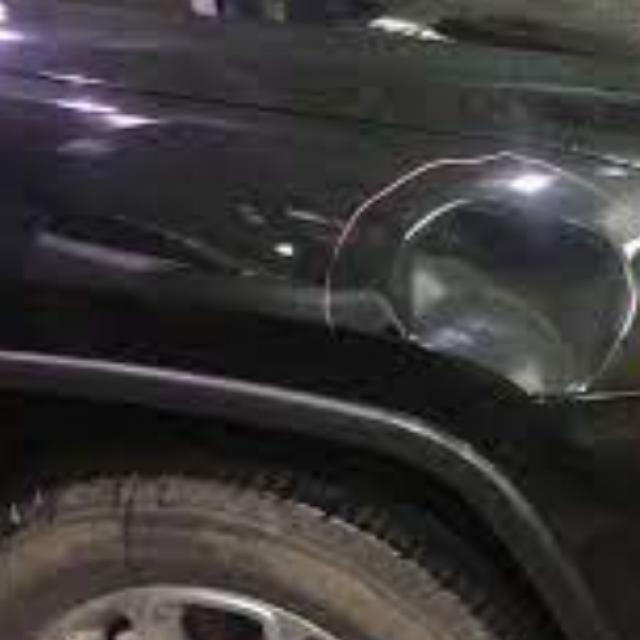dents: (330, 142, 639, 442)
